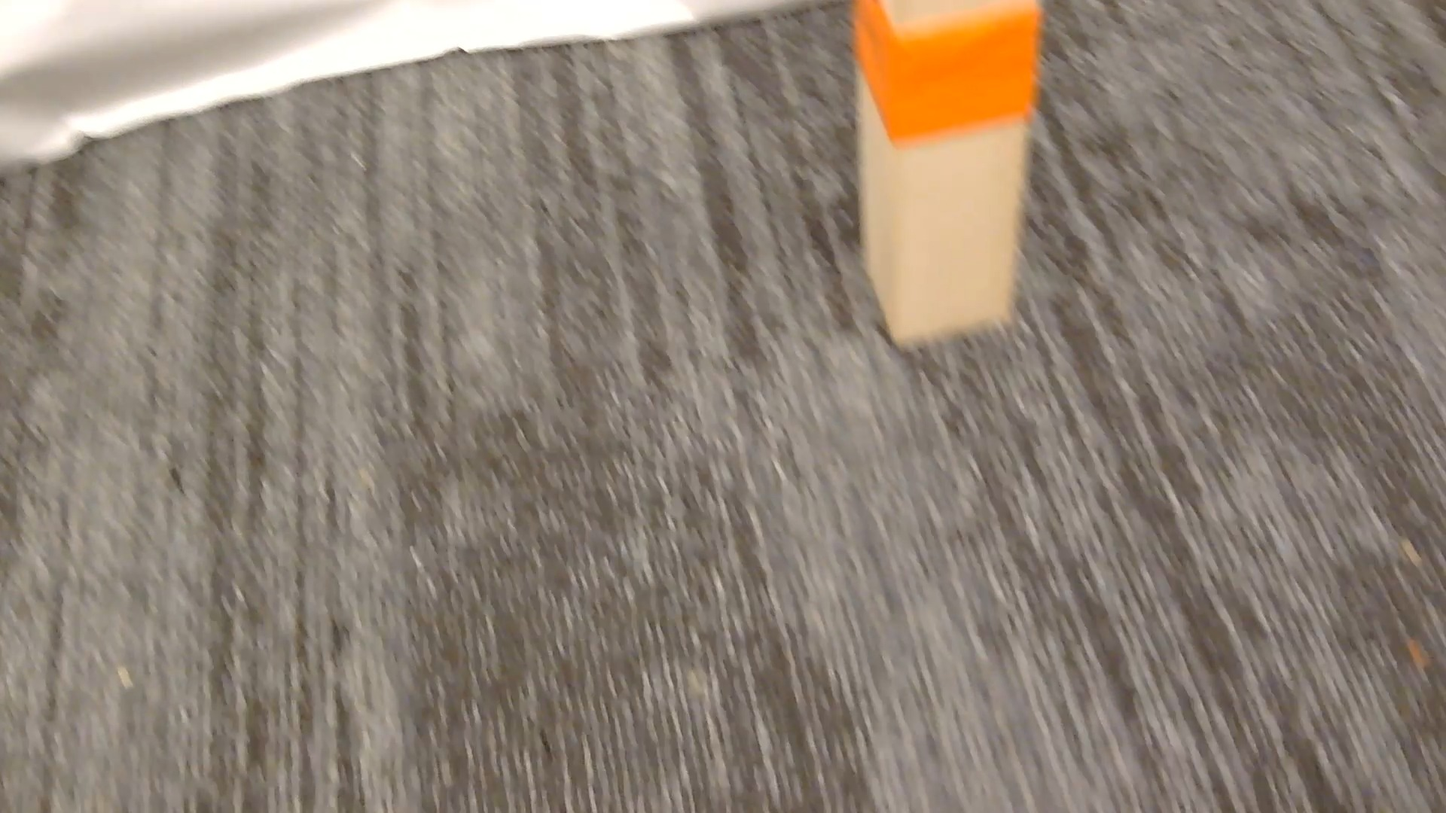Wooden Block: (852, 0, 1041, 343)
